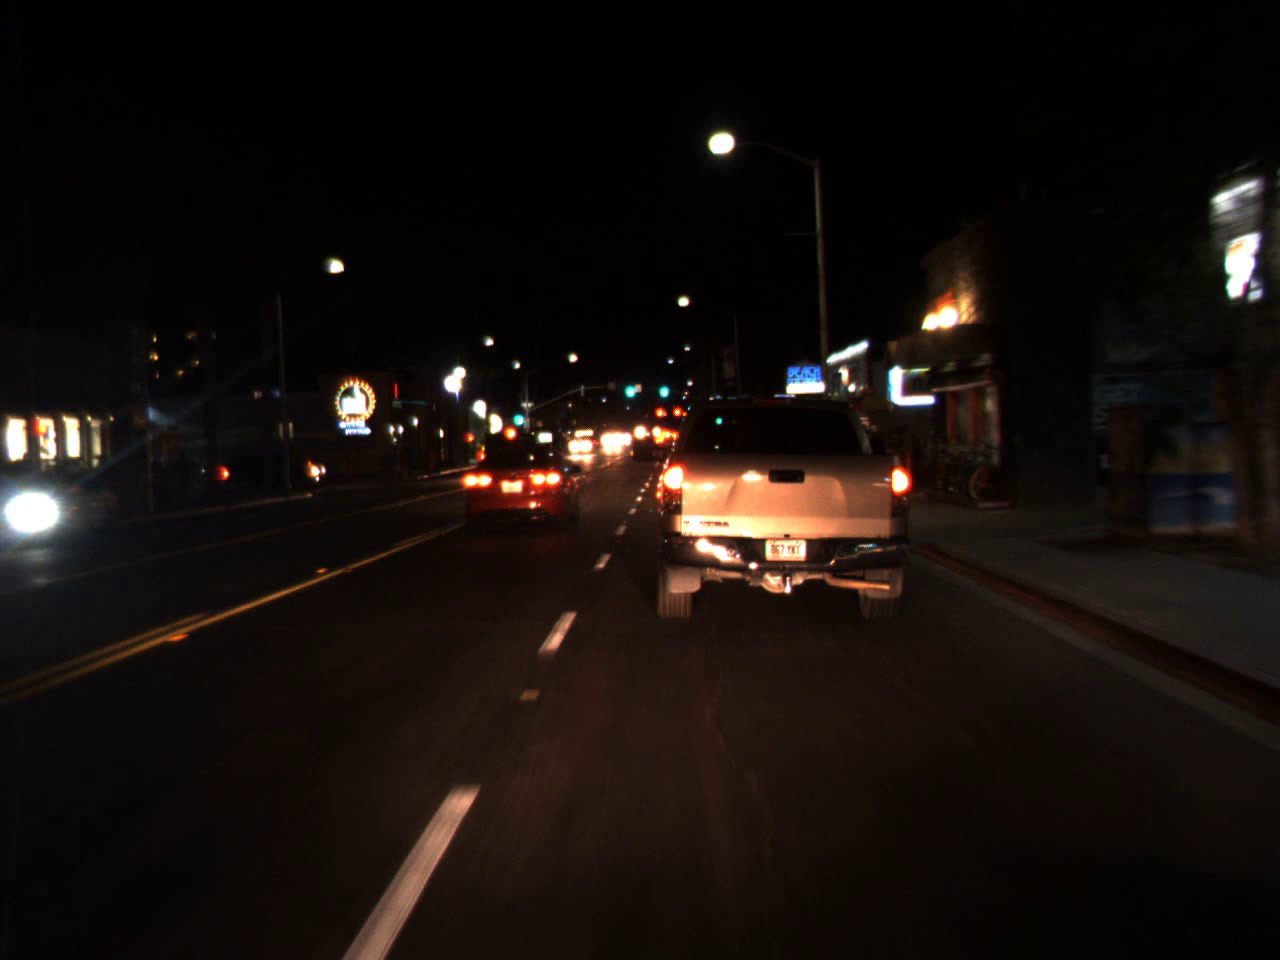go: (621, 372, 639, 402), (510, 402, 526, 429), (656, 374, 670, 401)
